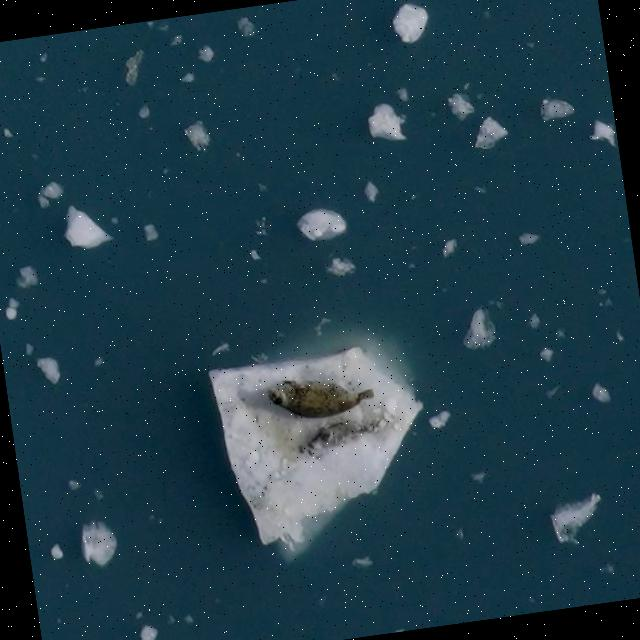seal: (267, 378, 375, 425)
